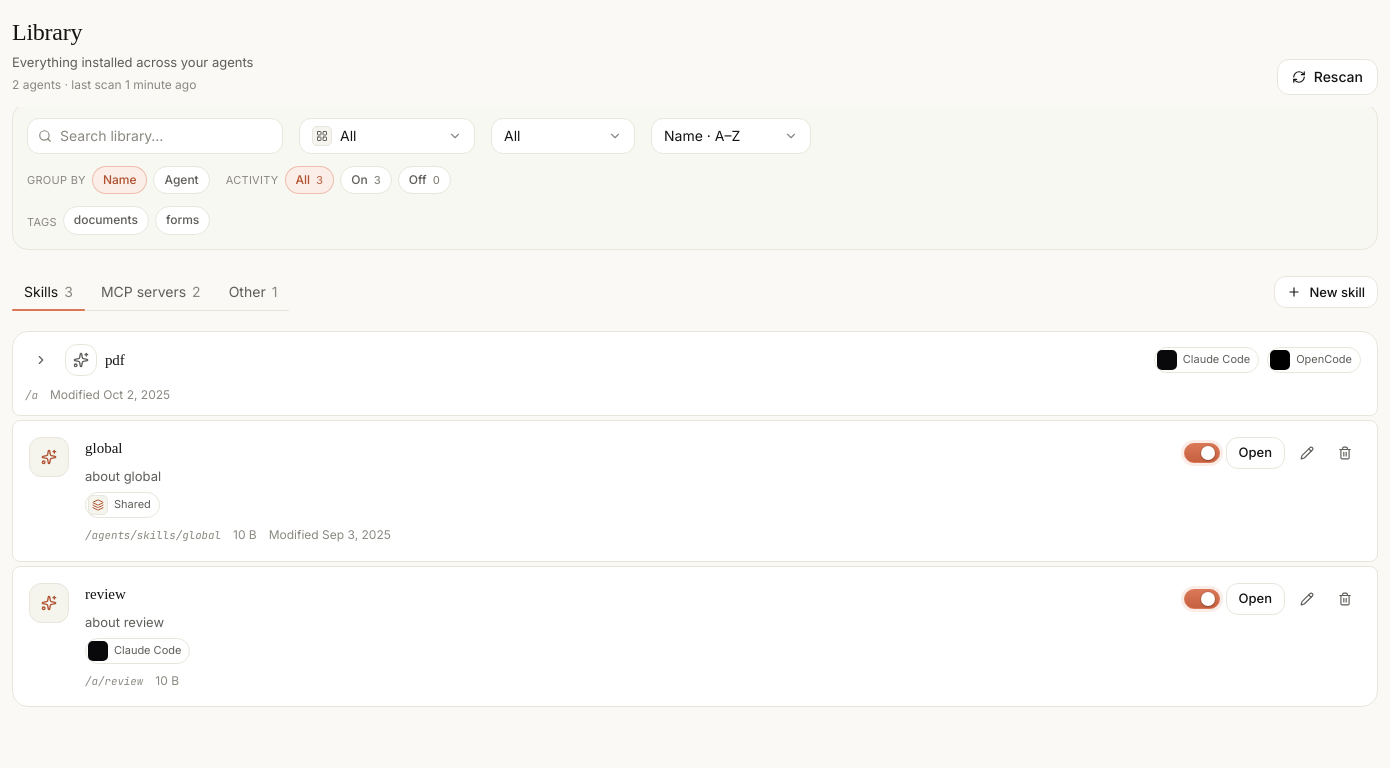
Test case: LibraryPage › shows the MCP servers with their owning agent
Expected: the heading "pdf" is shown, [105,350,124,369]
Click the tab "MCP servers2". click: {"x": 151, "y": 292}
box: [89,274,213,310]
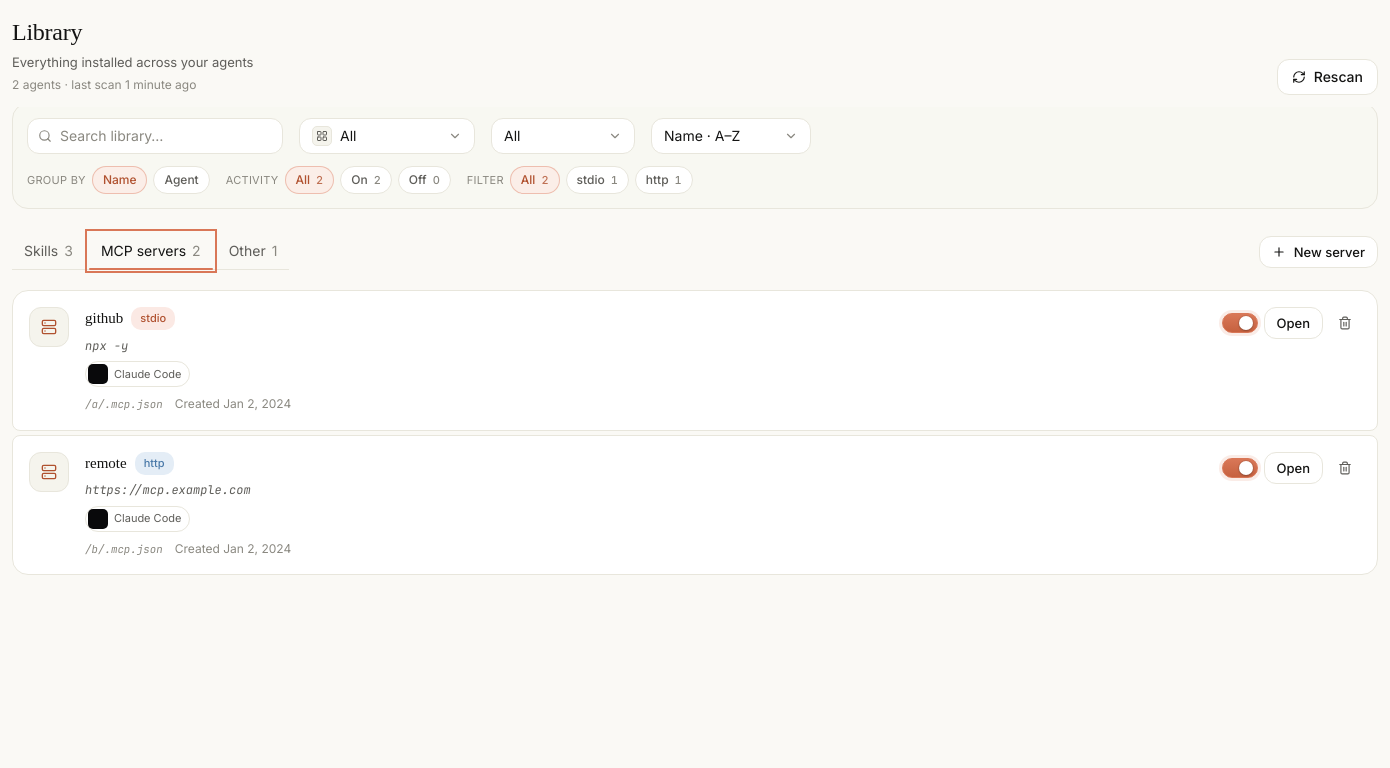
Expected: the text "Claude Code" is shown, [85,361,190,387]
Expected: the text "npx -y" is shown, [85,338,128,354]
Expected: the button "pdf" is gone
